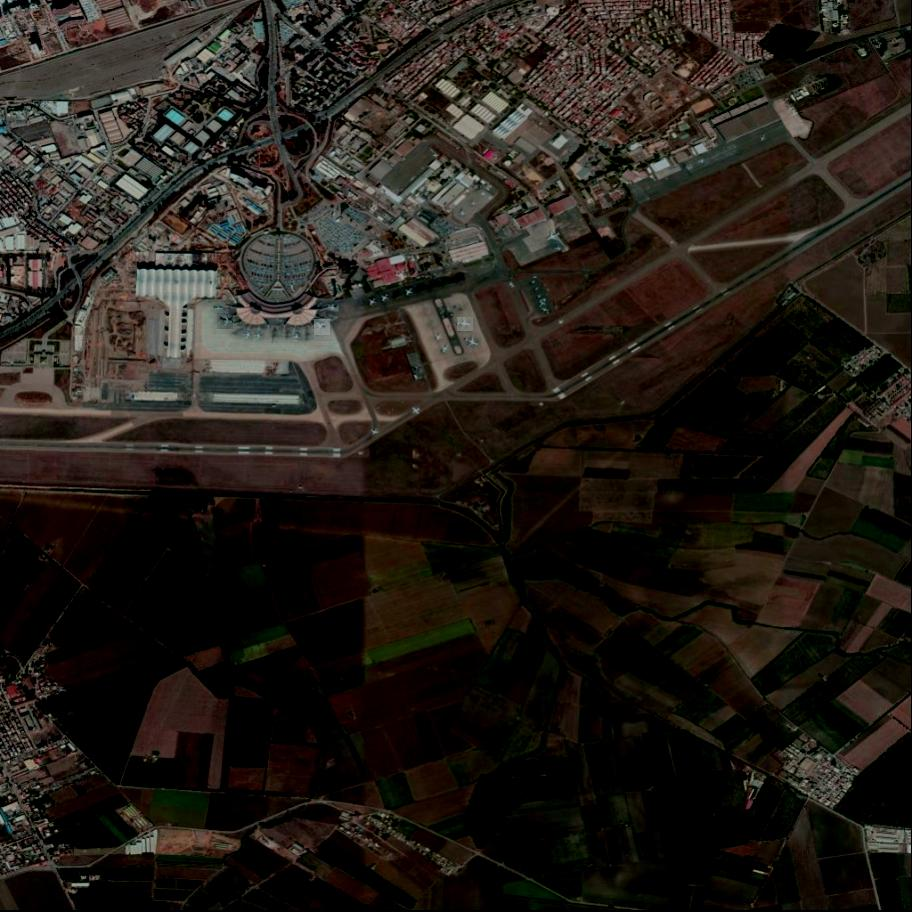plane: (462, 332, 482, 350), (314, 319, 331, 336), (218, 313, 234, 329), (458, 318, 473, 332)
